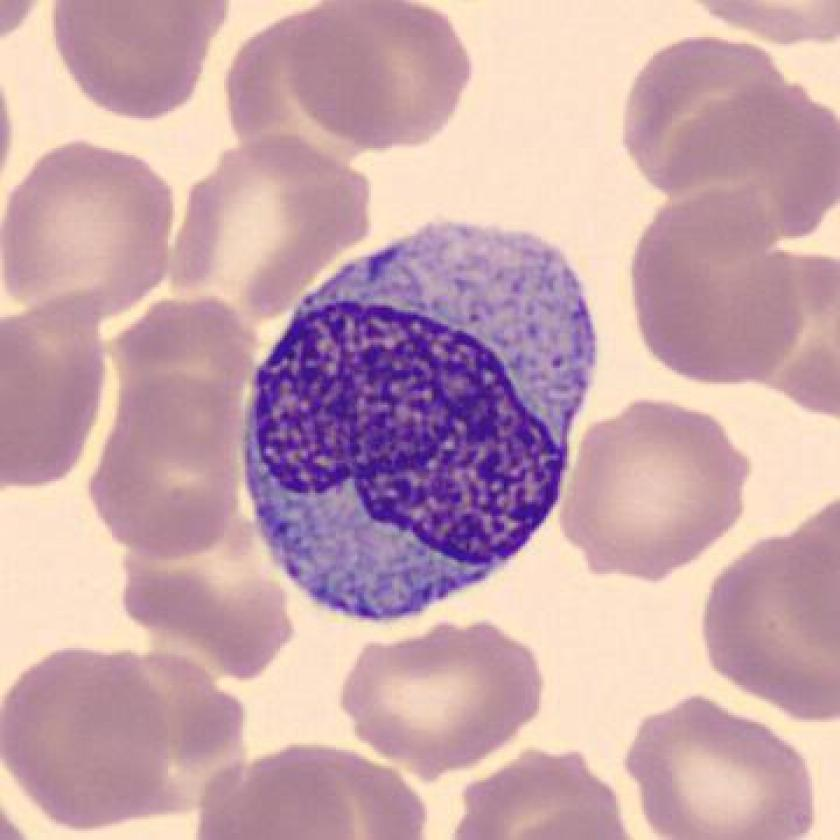monocyte: (225, 200, 626, 649)
